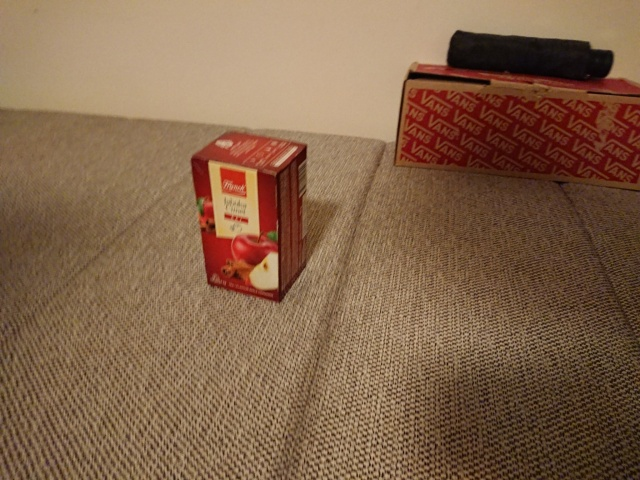Franck Apple Cinnamon Tea 60g: (187, 128, 311, 305)
